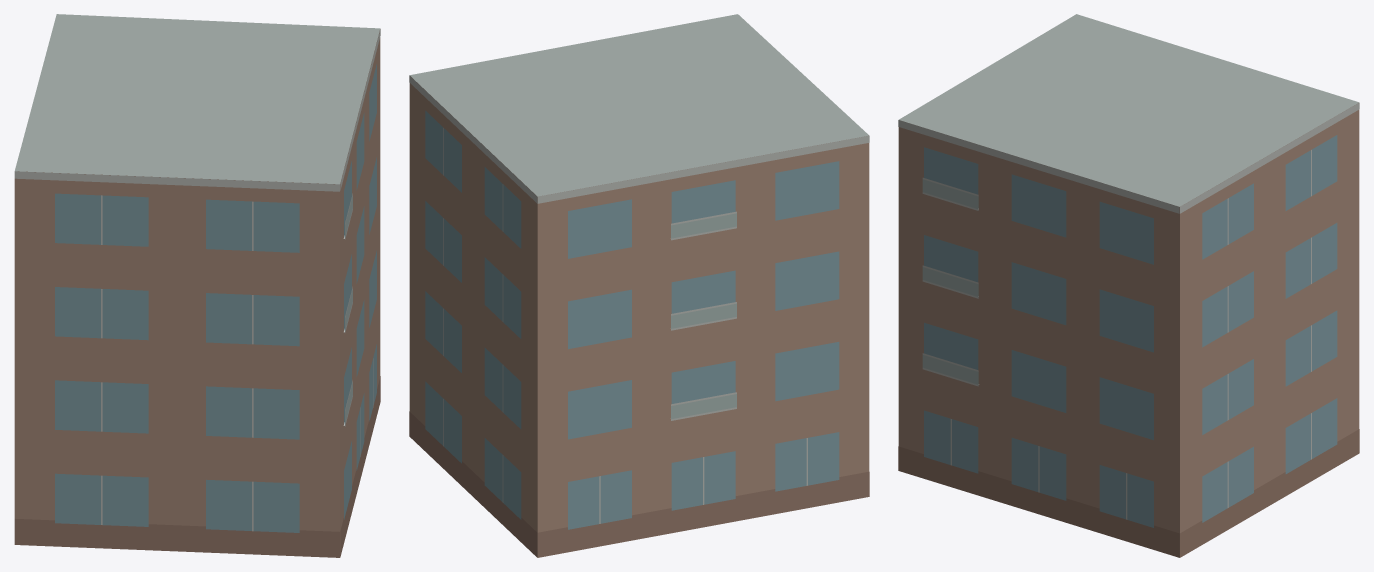
Rendered from survey-upis-32663747.glb.
3 views of the same model, side by side, from view 1: azimuth 30°, elevation 25°; view 2: azimuth 150°, elevation 25°; view 3: azimuth 270°, elevation 25° (orthographic). The views are drawn at different scales.
Parts seen in each view (by area): view 1: survey-upis-32663747.tmp; view 2: survey-upis-32663747.tmp; view 3: survey-upis-32663747.tmp.
Boxes of the visible parts, x1,y1,x2,y2 form: survey-upis-32663747.tmp: (14, 14, 380, 557); survey-upis-32663747.tmp: (409, 14, 869, 557); survey-upis-32663747.tmp: (898, 14, 1359, 557).
Size of the model in its own units: 14.39 by 12.2 by 14.53.
